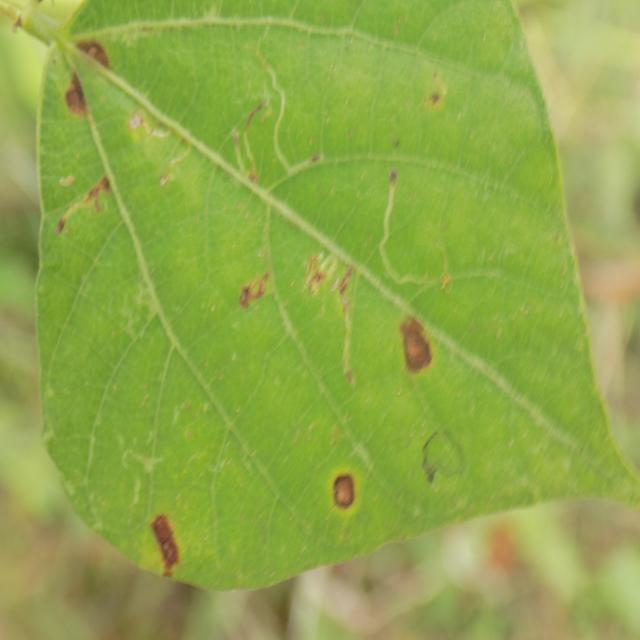Dolicos bean_cercospora leaf spot: (30, 0, 636, 592)
